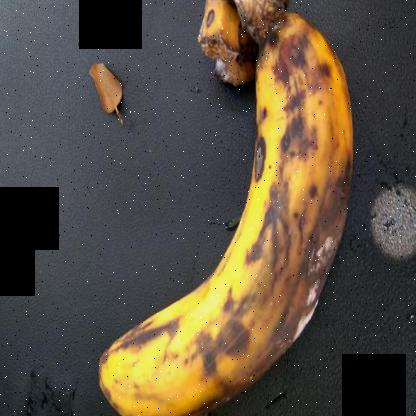overripe: (73, 21, 356, 415)
rotten: (206, 129, 363, 411)
